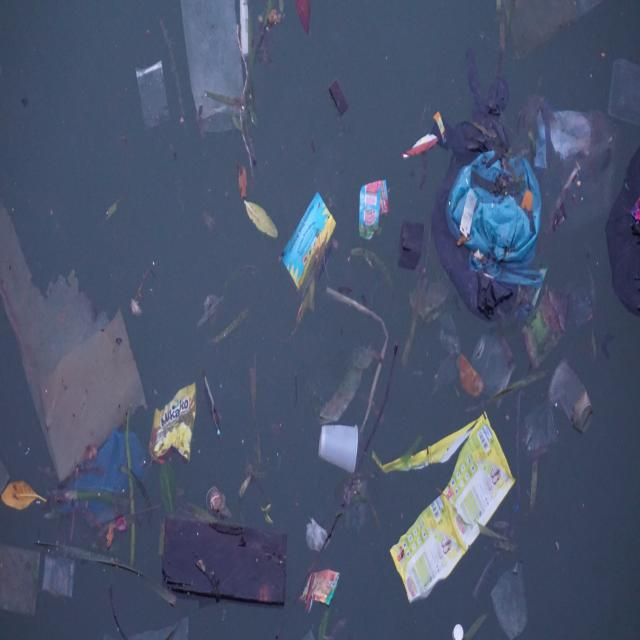Bungkus Makanan: (150, 380, 202, 466)
Bungkus Minuman: (550, 360, 597, 440), (472, 331, 517, 407), (319, 420, 361, 474)
Kantong Plastik: (430, 85, 545, 317), (182, 2, 253, 133), (70, 426, 153, 529), (605, 142, 640, 321), (134, 60, 172, 133)
